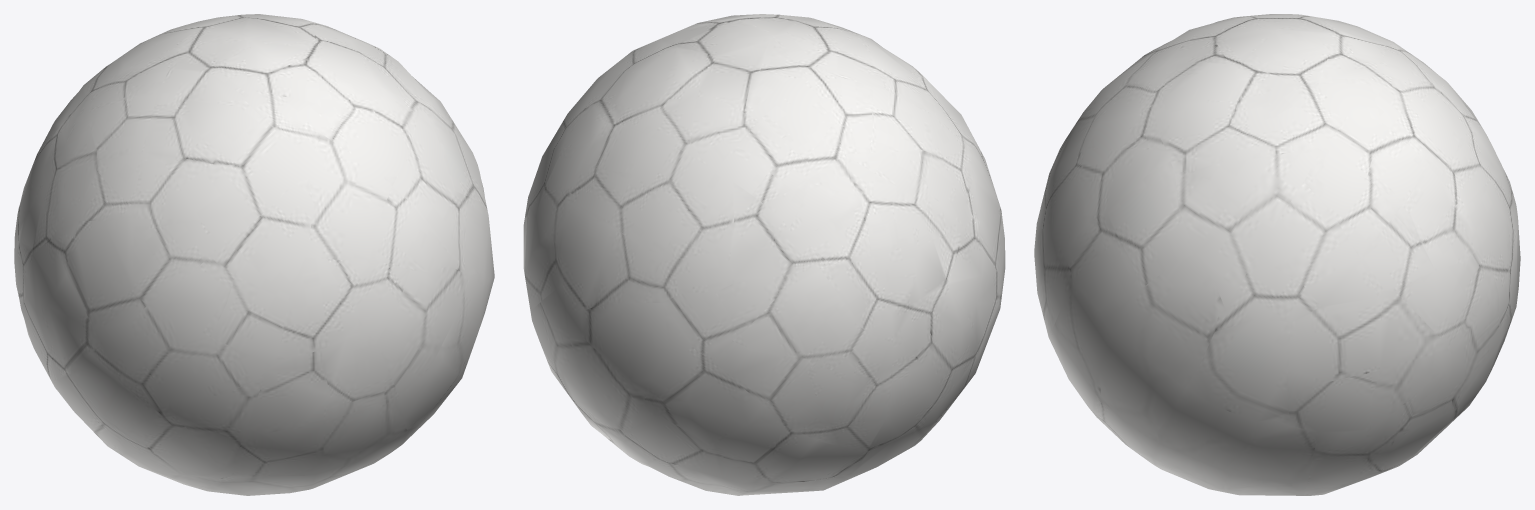
Rendered from ball.glb.
The picture shows the model from 3 angles, left to right: view 1: azimuth 30°, elevation 25°; view 2: azimuth 150°, elevation 25°; view 3: azimuth 270°, elevation 25°; orthographic projection.
Bounding box in the file's own units: 1.91 × 1.91 × 1.91.
Materials: 1 (1 with a texture image).
